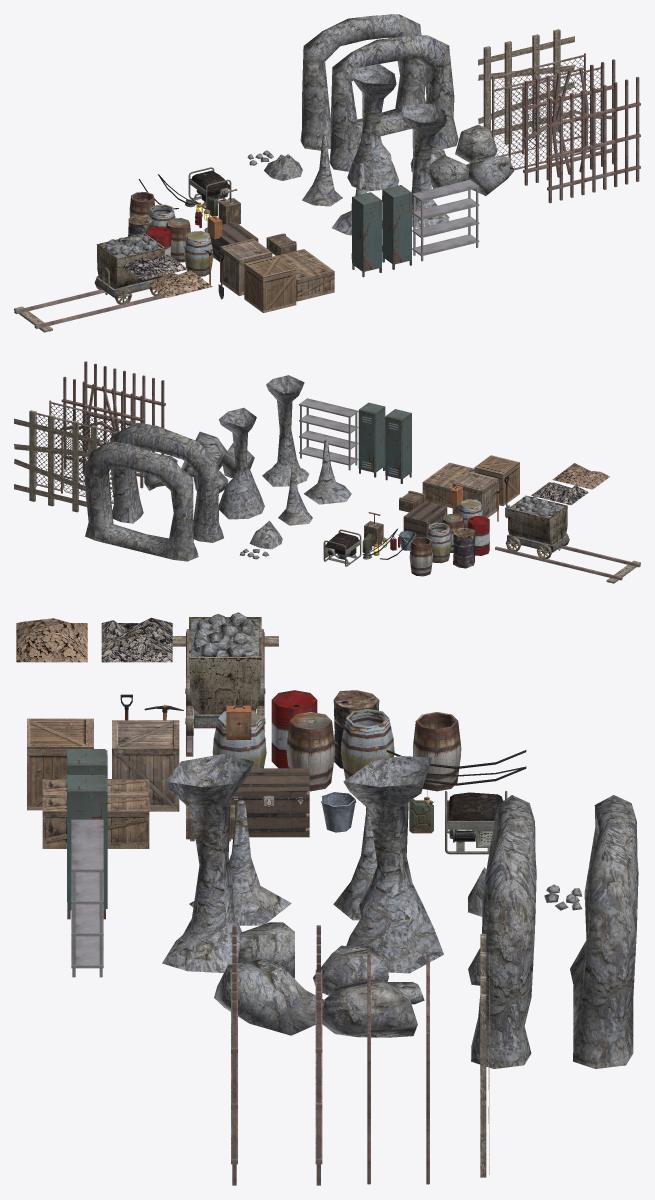
File: mine.glb
The picture shows the model from 3 angles, top to bottom: view 1: azimuth 30°, elevation 25°; view 2: azimuth 150°, elevation 25°; view 3: azimuth 270°, elevation 25°; orthographic projection. The views are drawn at different scales.
Visible parts, largest first — view 1: Rock_12, Rock_11, Fence, Rock_05, Fence_04, Fence_01, Shelving, Rock_06, Box_Wood_01, Wagon, Locker, Locker_01 (+23 smaller); view 2: Rock_12, Rock_11, Fence_04, Rock_05, Wagon, Rock_06, Shelving, Fence_01, Fence, Box_Wood, Box_Wood_01, Box_Wood_02 (+26 smaller); view 3: Rock_12, Rock_11, Rock_05, Rock_06, Wagon, Rock, Shelving, Box_Wood, Box_Wood_02, Box, Rock_02, Box_Wood_01 (+24 smaller).
Boxes of the visible parts, x1,y1,x2,y2 form: Rock_12: (300,14,425,150); Rock_11: (329,35,458,171); Fence: (547,77,640,203); Rock_05: (347,64,398,191); Fence_04: (478,29,574,144); Fence_01: (523,59,615,185); Shelving: (412,179,479,261); Rock_06: (401,103,449,228); Box_Wood_01: (244,255,296,312); Wagon: (94,232,164,305); Locker: (352,192,381,277); Locker_01: (382,185,411,269); Rock_12: (84,441,198,561); Rock_11: (111,422,223,542); Fence_04: (14,410,99,512); Rock_05: (218,407,264,519); Wagon: (505,495,569,559); Rock_06: (262,375,308,486); Shelving: (299,398,358,470); Fence_01: (61,376,144,488); Fence: (84,361,165,454); Box_Wood: (452,471,498,517); Box_Wood_01: (474,455,519,505); Box_Wood_02: (422,462,474,508); Rock_12: (570,795,638,1068); Rock_11: (468,795,536,1068); Rock_05: (343,756,443,973); Rock_06: (162,754,253,972); Wagon: (185,617,265,735); Rock: (214,958,323,1035); Shelving: (71,819,103,977); Box_Wood: (112,720,179,811); Box_Wood_02: (42,779,149,848); Box: (230,768,309,837); Rock_02: (322,980,417,1037); Box_Wood_01: (27,718,93,810).
Bounding box in the file's own units: 21.27 × 4.17 × 10.4.
Materials: 31 (31 with a texture image).
